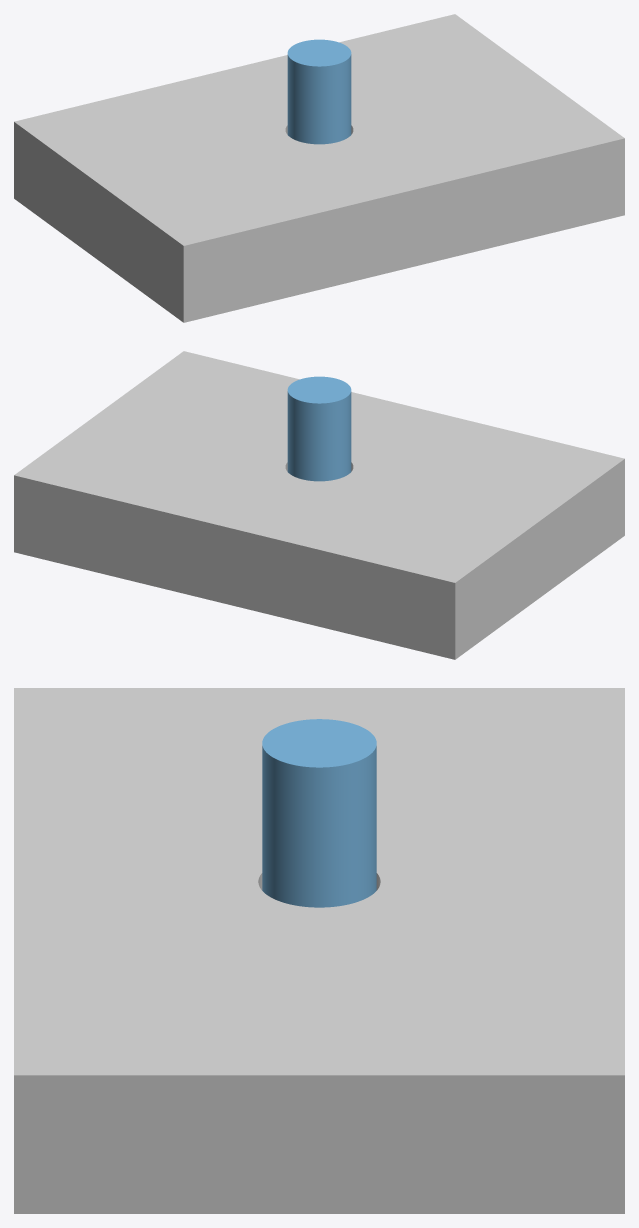
Rendered from plaka_ve_sivri_uclu_derin_yivli_pim.gltf.
The picture shows the model from 3 angles, top to bottom: view 1: azimuth 30°, elevation 25°; view 2: azimuth 150°, elevation 25°; view 3: azimuth 270°, elevation 25°; orthographic projection. The views are drawn at different scales.
Visible parts, largest first — view 1: plaka_part, yivli_pim_part; view 2: plaka_part, yivli_pim_part; view 3: plaka_part, yivli_pim_part.
Boxes of the visible parts, x1,y1,x2,y2 form: plaka_part: (14, 14, 624, 322); yivli_pim_part: (287, 39, 351, 144); plaka_part: (14, 351, 624, 659); yivli_pim_part: (287, 376, 351, 481); plaka_part: (14, 688, 624, 1213); yivli_pim_part: (262, 719, 376, 907).
Size of the model in its own units: 60 by 30 by 40.
